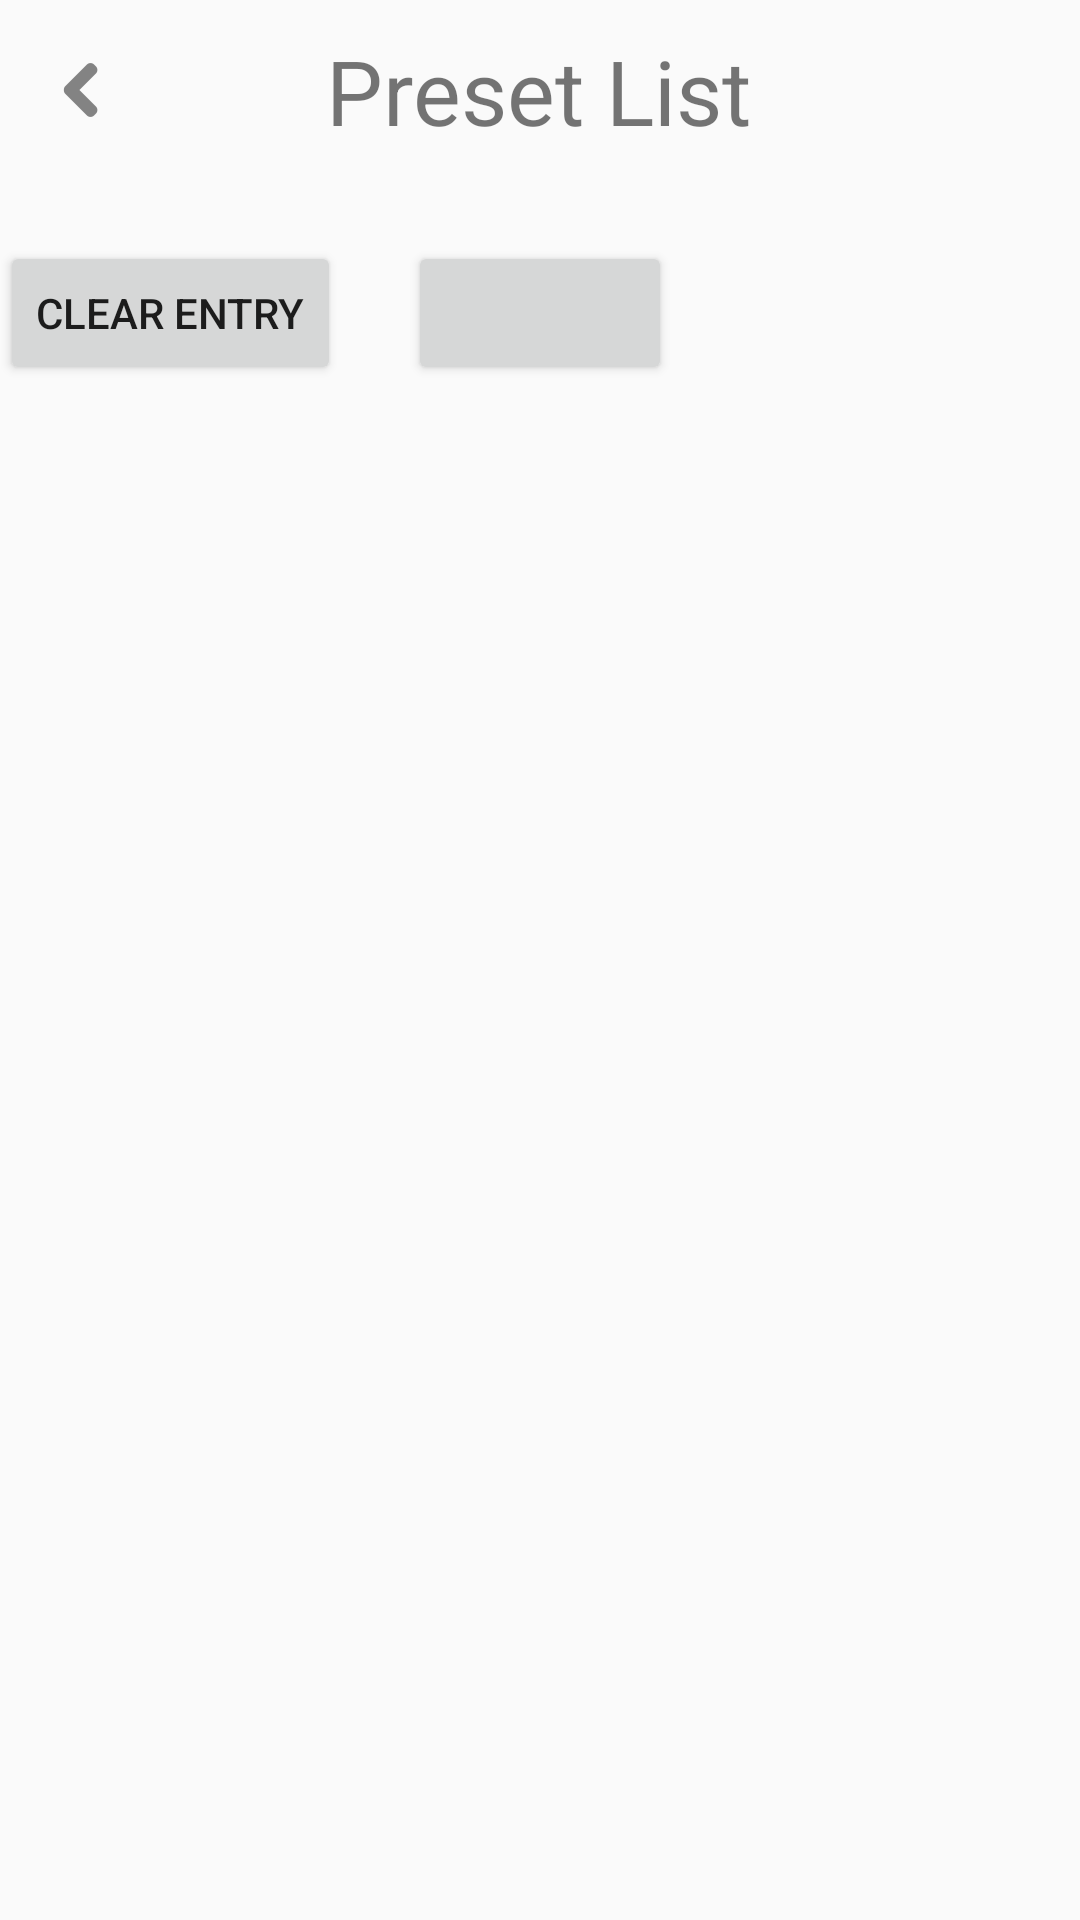

Point at icon controls on the screen. Image size 1080px×1920px, points as (x=x, y=y).
backarrow: (x=81, y=90)
